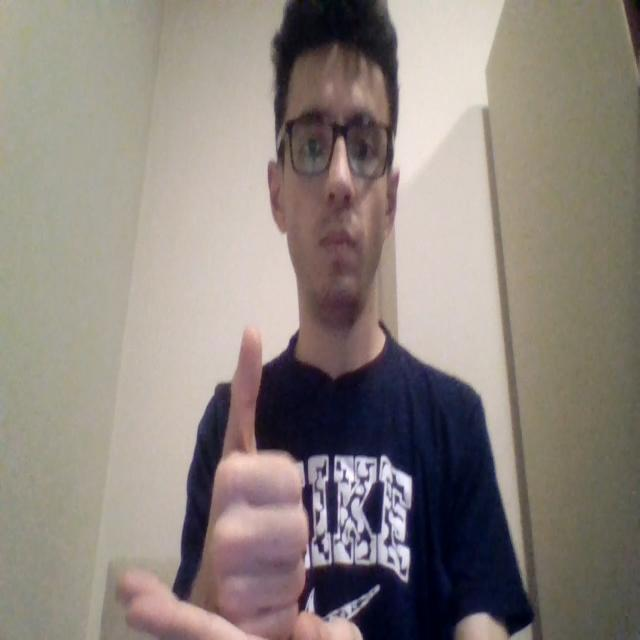help: (118, 323, 314, 640)
